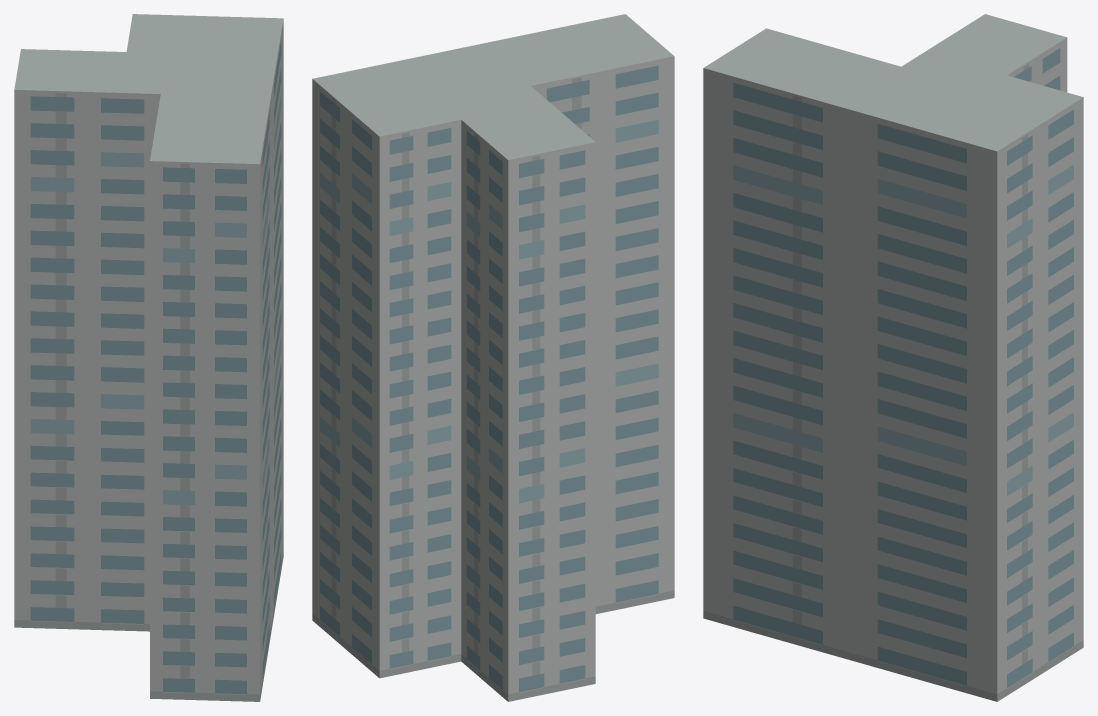
Rendered from residential-bbeebc78-8e91-4aee-bc9e-a00f966825b6.glb.
3 renders of one model, left to right at view 1: azimuth 30°, elevation 25°; view 2: azimuth 150°, elevation 25°; view 3: azimuth 270°, elevation 25°, orthographic. The views are drawn at different scales.
Visible parts, largest first — view 1: residential-bbeebc78-8e91-4aee-bc9e-a00f966825b6.tmp; view 2: residential-bbeebc78-8e91-4aee-bc9e-a00f966825b6.tmp; view 3: residential-bbeebc78-8e91-4aee-bc9e-a00f966825b6.tmp.
Part boxes in pixels (x1,y1,x2,y2): residential-bbeebc78-8e91-4aee-bc9e-a00f966825b6.tmp: (14, 14, 283, 701); residential-bbeebc78-8e91-4aee-bc9e-a00f966825b6.tmp: (312, 14, 674, 701); residential-bbeebc78-8e91-4aee-bc9e-a00f966825b6.tmp: (703, 14, 1083, 701).
Bounding box in the file's own units: 35.37 × 66 × 41.33.
